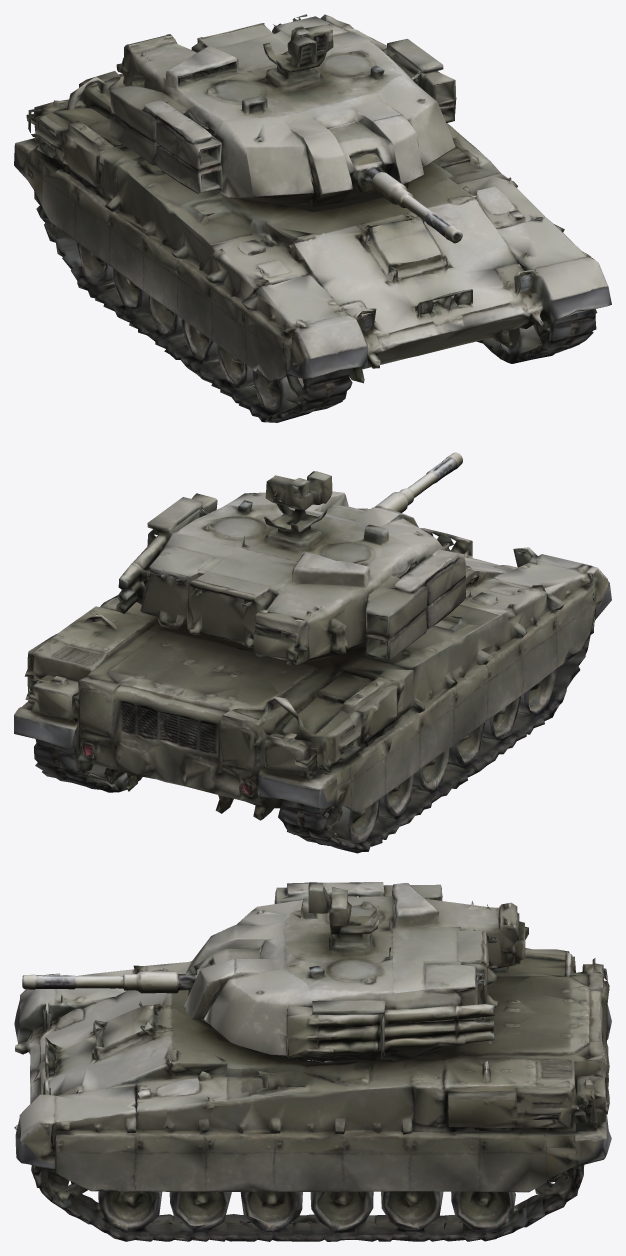
The model's file is armor-m2a3-bradley.glb.
The picture shows the model from 3 angles, top to bottom: view 1: azimuth 30°, elevation 25°; view 2: azimuth 150°, elevation 25°; view 3: azimuth 270°, elevation 25°; orthographic projection.
Visible parts, largest first — view 1: Hull, Turret, Gun; view 2: Hull, Turret, Gun; view 3: Hull, Turret, Gun.
Boxes of the visible parts, bbox=[...] form: Hull: bbox=[14, 71, 611, 422]; Turret: bbox=[110, 14, 456, 206]; Gun: bbox=[371, 172, 462, 243]; Hull: bbox=[14, 508, 611, 853]; Turret: bbox=[116, 471, 465, 665]; Gun: bbox=[374, 452, 462, 512]; Hull: bbox=[14, 948, 611, 1241]; Turret: bbox=[179, 882, 528, 1062]; Gun: bbox=[22, 971, 179, 993].
Bounding box in the file's own units: 0.6249 × 0.5168 × 0.9988.
Materials: 1 (1 with a texture image).
